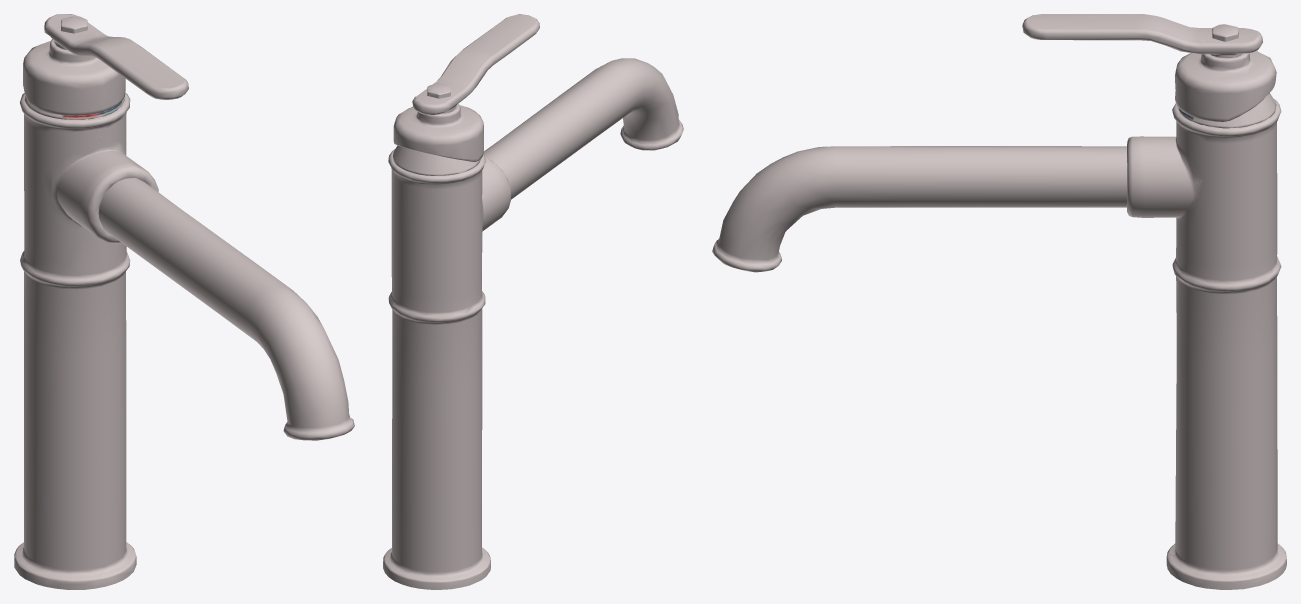
File: taksjon_bateria_kuchenna_z_gornym_uchwytem_00602303.glb
3 renders of one model, left to right at view 1: azimuth 30°, elevation 25°; view 2: azimuth 150°, elevation 25°; view 3: azimuth 270°, elevation 25°, orthographic. The views are drawn at different scales.
Parts seen in each view (by area): view 1: taksjon_bateria_kuchenna_z_gornym_uchwytem_00602303; view 2: taksjon_bateria_kuchenna_z_gornym_uchwytem_00602303; view 3: taksjon_bateria_kuchenna_z_gornym_uchwytem_00602303.
Boxes of the visible parts, x1,y1,x2,y2 form: taksjon_bateria_kuchenna_z_gornym_uchwytem_00602303: (14, 14, 354, 589); taksjon_bateria_kuchenna_z_gornym_uchwytem_00602303: (383, 14, 683, 589); taksjon_bateria_kuchenna_z_gornym_uchwytem_00602303: (712, 14, 1286, 589).
Bounding box in the file's own units: 0.0551 × 0.2763 × 0.2634.
Materials: 1 (1 with a texture image).
